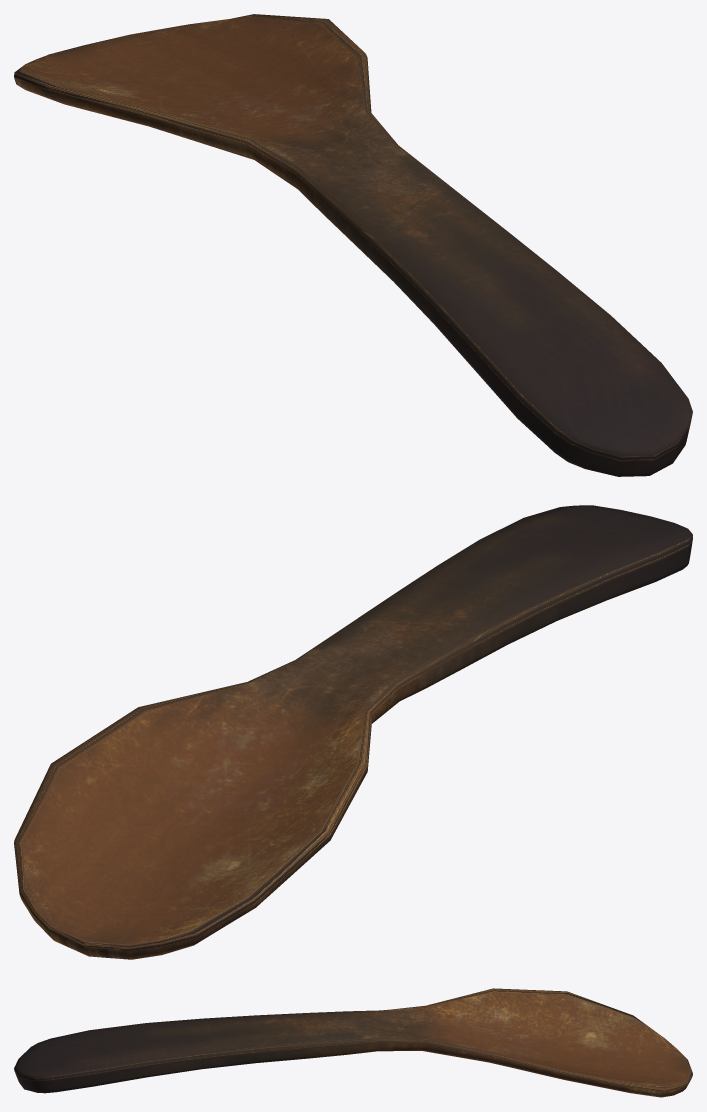
File: HornSpoon1.fbx
3 views of the same model, one above another, from view 1: azimuth 30°, elevation 25°; view 2: azimuth 150°, elevation 25°; view 3: azimuth 270°, elevation 25° (orthographic). The views are drawn at different scales.
Parts seen in each view (by area): view 1: HT3D_21_007_HornSpoon01_ModelSubstance_v001_MSM:pasted__pCub; view 2: HT3D_21_007_HornSpoon01_ModelSubstance_v001_MSM:pasted__pCub; view 3: HT3D_21_007_HornSpoon01_ModelSubstance_v001_MSM:pasted__pCub.
Part boxes in pixels (bbox=[...]): HT3D_21_007_HornSpoon01_ModelSubstance_v001_MSM:pasted__pCub: bbox=[14, 14, 692, 476]; HT3D_21_007_HornSpoon01_ModelSubstance_v001_MSM:pasted__pCub: bbox=[14, 505, 692, 959]; HT3D_21_007_HornSpoon01_ModelSubstance_v001_MSM:pasted__pCub: bbox=[14, 988, 692, 1097].
Size of the model in its own units: 2.18 by 0.7796 by 7.68.
